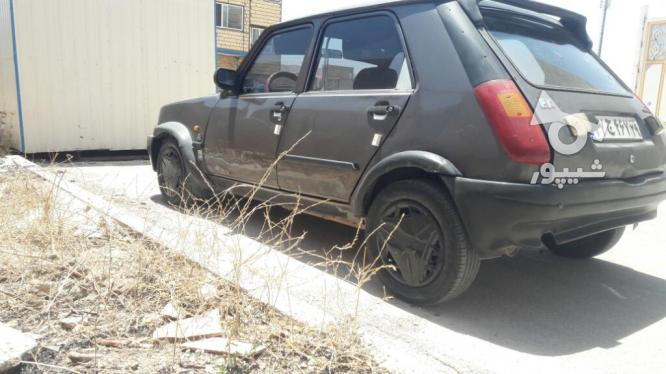car: (585, 116, 642, 142)
